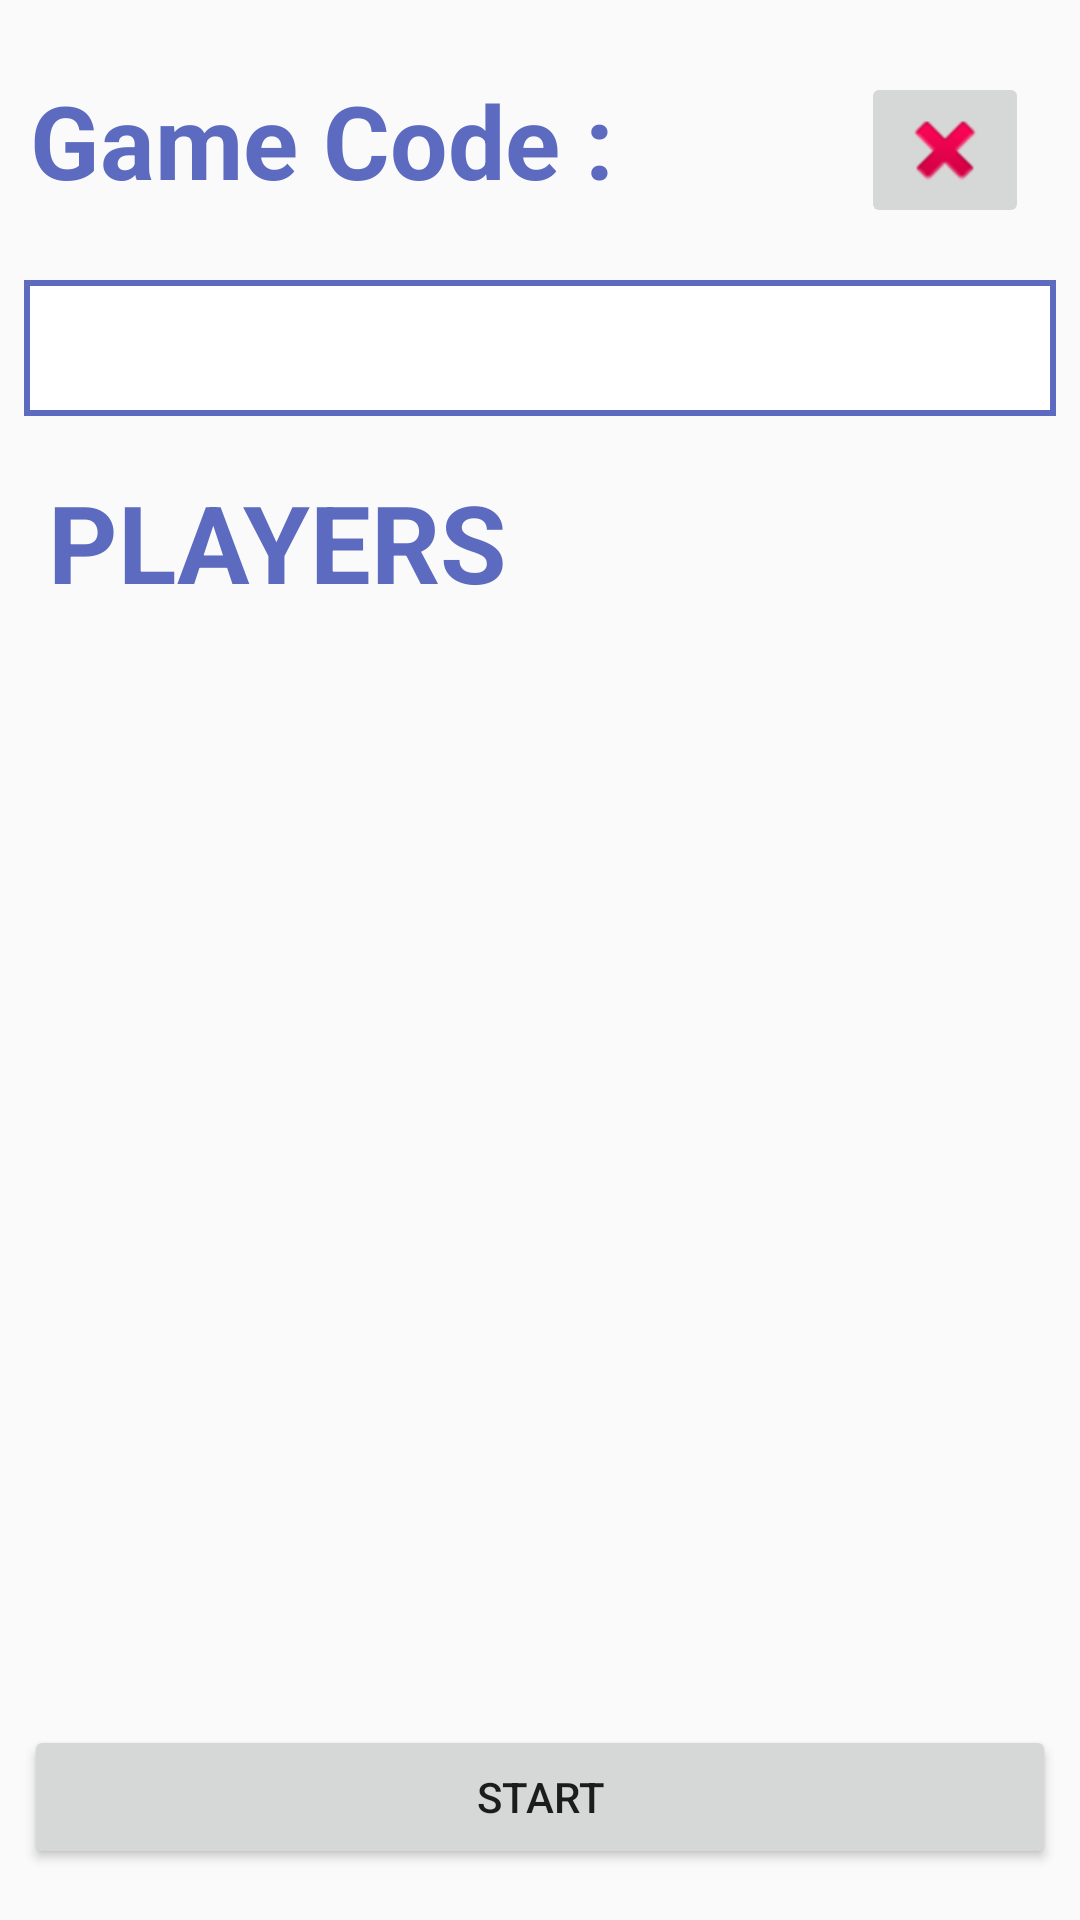

Icon bounding boxes for this 1080px×1920px phone screenshot, format (x1, y1, x2, y2):
delete: (873, 90, 1017, 210)
